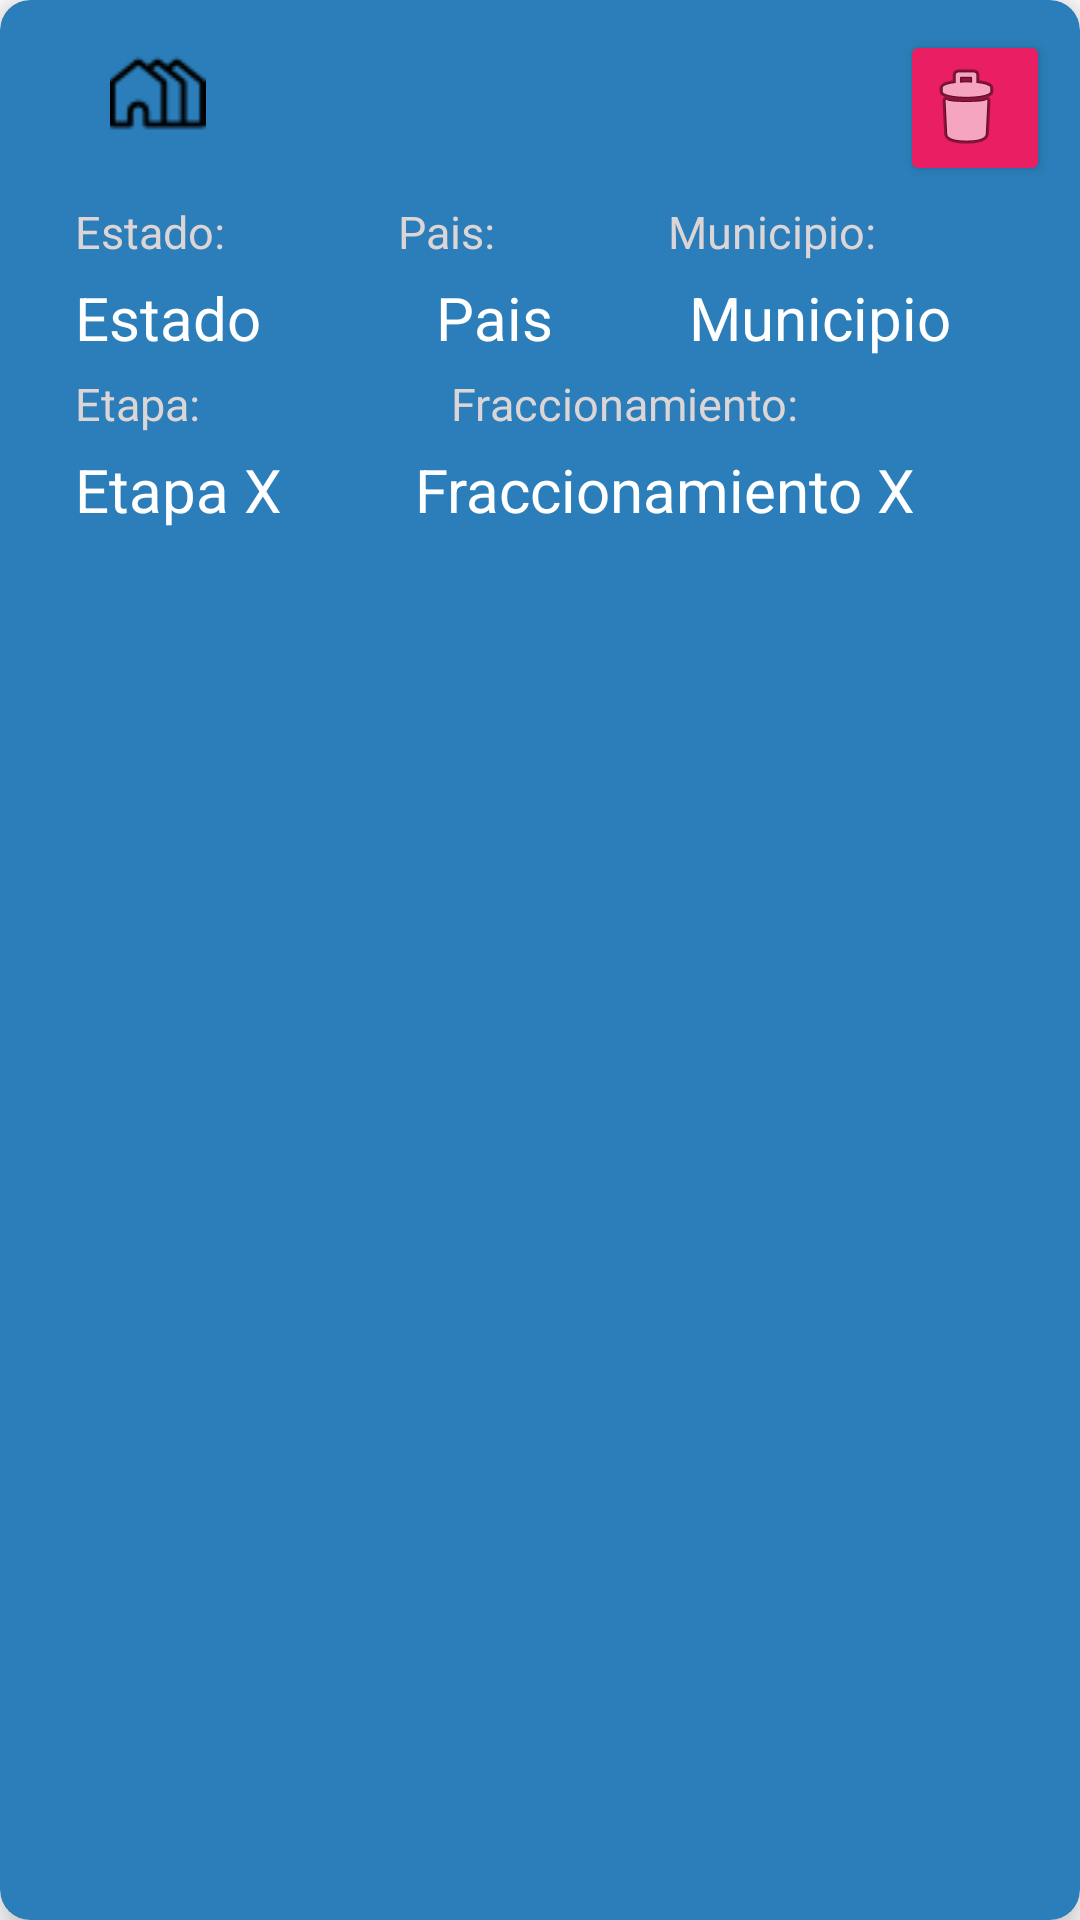

Screen size 1080px x 1920px. Icon name, then its center in pixels as [x,y]:
houses: [158,93]
